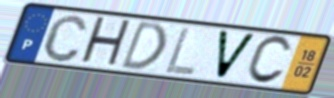C: (243, 34, 294, 87), (40, 13, 90, 64)
D: (117, 19, 168, 72)
H: (77, 15, 134, 70)
L: (163, 25, 199, 77)
V: (215, 28, 259, 82)
